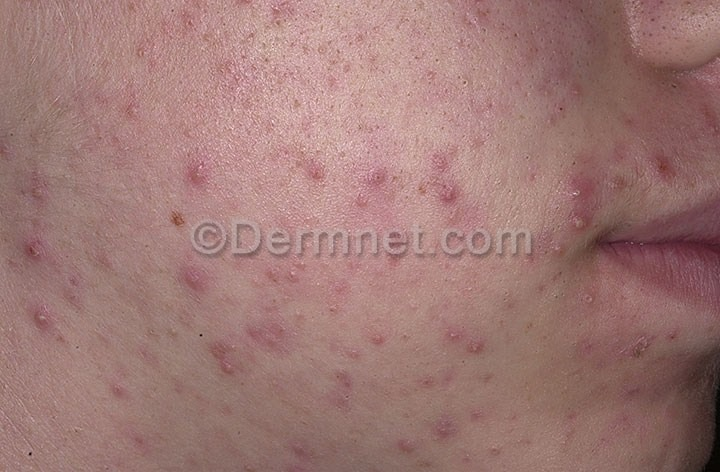Acne: (567, 179, 586, 205), (571, 215, 589, 236), (33, 311, 51, 328)
